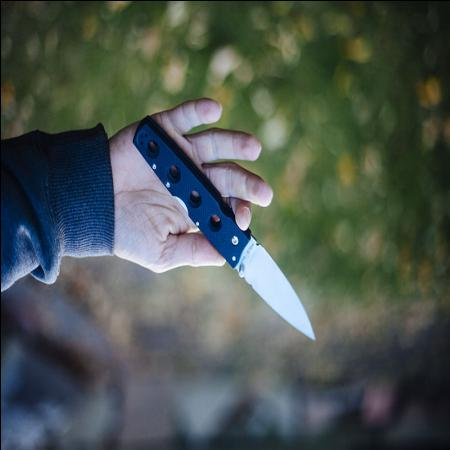long weapon: (166, 128, 320, 352)
